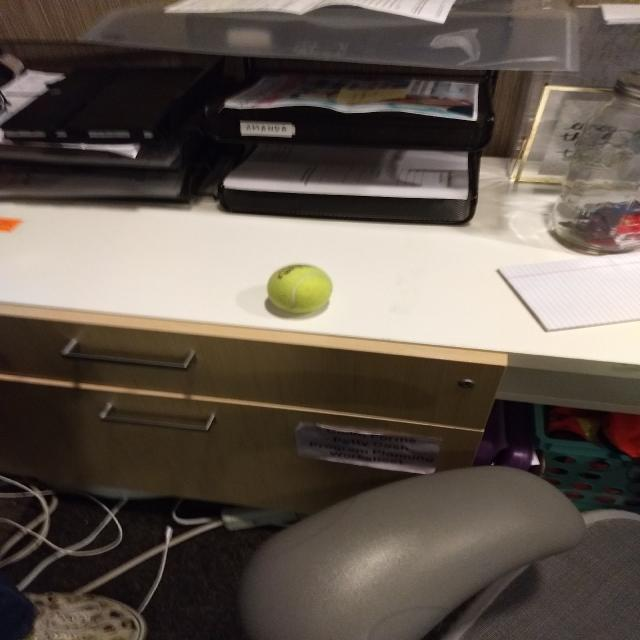Tennis-Ball: (267, 263, 332, 313)
